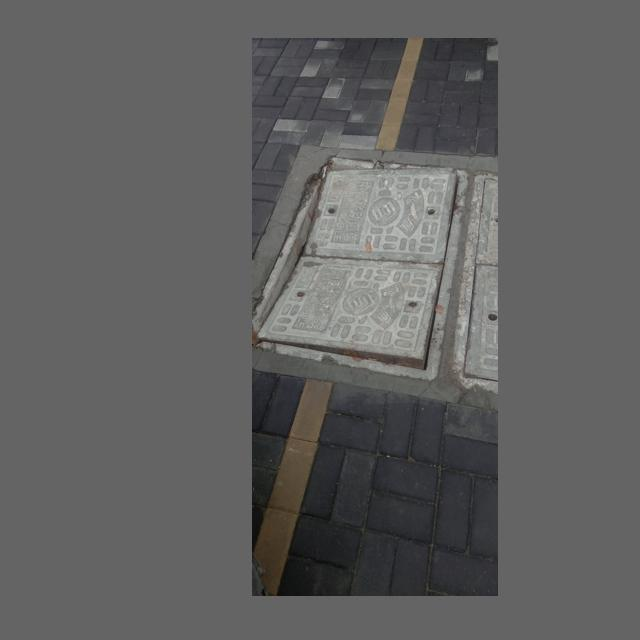uncovered: (254, 156, 468, 380)
